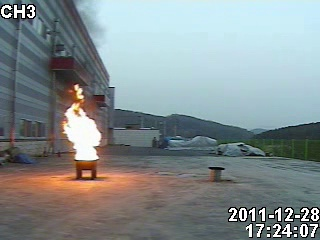fire: (62, 82, 102, 161)
